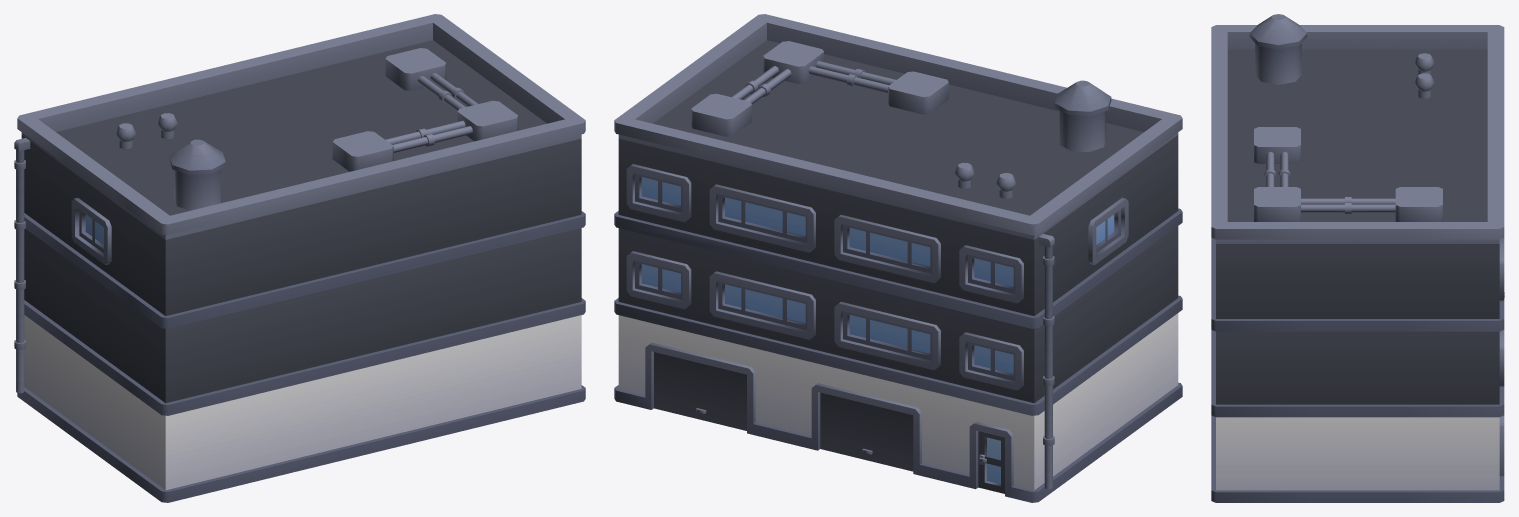
File: factory.draco.glb
3 views of the same model, side by side, from view 1: azimuth 30°, elevation 25°; view 2: azimuth 150°, elevation 25°; view 3: azimuth 270°, elevation 25° (orthographic).
Visible parts, largest first — view 1: building-a; view 2: building-a; view 3: building-a.
Boxes of the visible parts, <box> form: building-a: <box>14,14,585,502</box>; building-a: <box>614,14,1182,502</box>; building-a: <box>1211,14,1504,502</box>.
Bounding box in the file's own units: 68273 × 48168 × 40701.
1 material, 1 textured.
